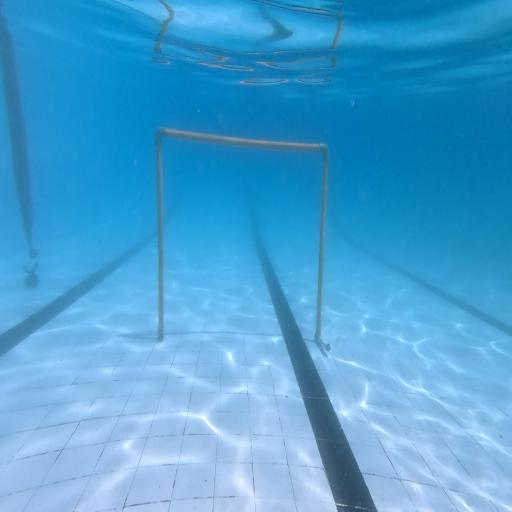gate: (154, 126, 330, 350)
